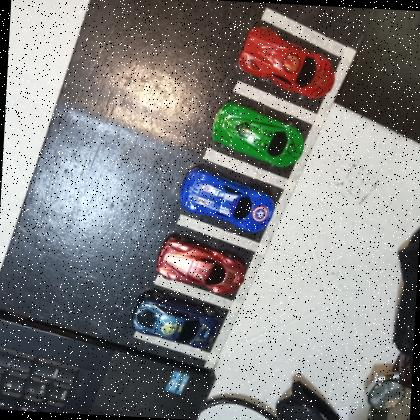Car: (234, 23, 338, 101), (208, 98, 307, 170), (177, 164, 276, 234), (154, 232, 248, 297), (128, 289, 224, 350)
